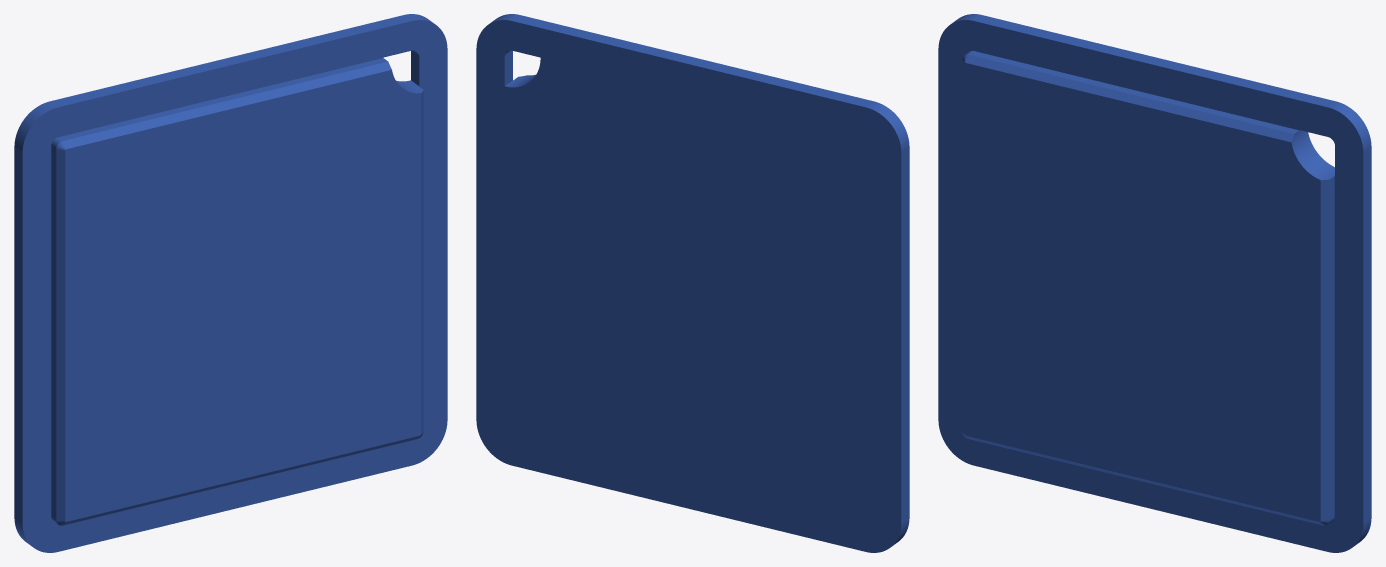
The model's file is matrix-lamp-part - lid.obj.
The picture shows the model from 3 angles, left to right: view 1: azimuth 30°, elevation 25°; view 2: azimuth 150°, elevation 25°; view 3: azimuth 330°, elevation 25°; orthographic projection.
Visible parts, largest first — view 1: mesh10, mesh21, mesh5, mesh30, mesh2, mesh24, mesh4, mesh0, mesh9, mesh14, mesh23; view 2: mesh22, mesh30, mesh24, mesh23; view 3: mesh10, mesh21, mesh14, mesh26, mesh2, mesh24, mesh13, mesh0, mesh9, mesh15, mesh5, mesh25.
Boxes of the visible parts, box(x1,y1,x2,y2) form: mesh10: box(65, 70, 421, 521); mesh21: box(22, 20, 447, 552); mesh5: box(56, 149, 65, 520); mesh30: box(14, 147, 22, 523); mesh2: box(63, 61, 391, 148); mesh24: box(50, 15, 411, 107); mesh4: box(51, 146, 56, 519); mesh0: box(58, 58, 387, 140); mesh9: box(63, 436, 419, 525); mesh14: box(421, 90, 423, 433); mesh23: box(14, 101, 57, 152); mesh22: box(476, 20, 901, 552); mesh30: box(901, 147, 909, 523); mesh24: box(512, 15, 873, 107); mesh23: box(866, 101, 909, 152); mesh10: box(964, 63, 1320, 521); mesh21: box(938, 20, 1363, 552); mesh14: box(1320, 179, 1329, 520); mesh26: box(1363, 147, 1371, 523); mesh2: box(966, 54, 1293, 142); mesh24: box(974, 15, 1335, 107); mesh13: box(1329, 176, 1334, 519); mesh0: box(969, 51, 1298, 133); mesh9: box(966, 436, 1322, 525); mesh15: box(1291, 130, 1334, 180); mesh5: box(962, 60, 964, 433); mesh25: box(1328, 101, 1371, 152).
Bounding box in the file's own units: 0.06 × 0.06 × 0.004.
